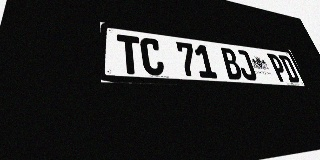1: (192, 44, 218, 78)
7: (174, 42, 200, 78)
B: (219, 47, 244, 80)
C: (139, 37, 165, 76)
D: (278, 55, 301, 83)
J: (234, 49, 258, 81)
P: (267, 53, 290, 82)
T: (117, 34, 143, 75)
